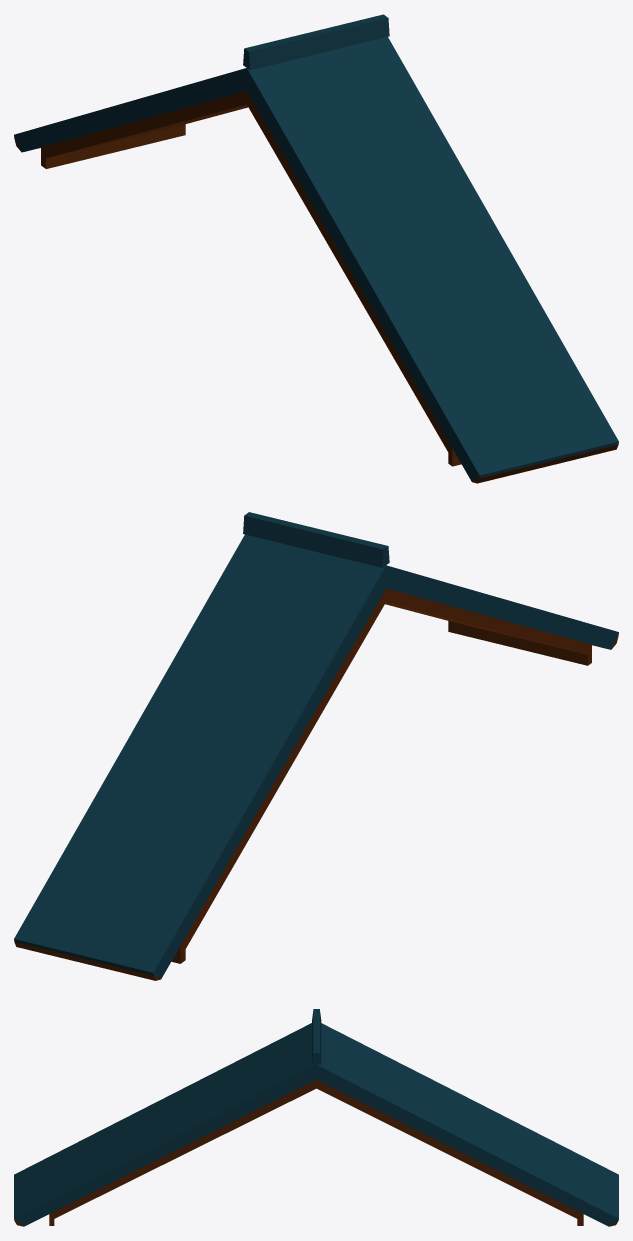
Rendered from Bld_Dojo_Roof_low.fbx.
3 renders of one model, top to bottom at view 1: azimuth 30°, elevation 25°; view 2: azimuth 150°, elevation 25°; view 3: azimuth 270°, elevation 25°, orthographic. The views are drawn at different scales.
Visible parts, largest first — view 1: Bld_Dojo_Roof_low; view 2: Bld_Dojo_Roof_low; view 3: Bld_Dojo_Roof_low.
Boxes of the visible parts, x1,y1,x2,y2 form: Bld_Dojo_Roof_low: (14, 14, 618, 483); Bld_Dojo_Roof_low: (14, 512, 618, 980); Bld_Dojo_Roof_low: (14, 1009, 618, 1226).
Size of the model in its own units: 400 by 732 by 2314.
